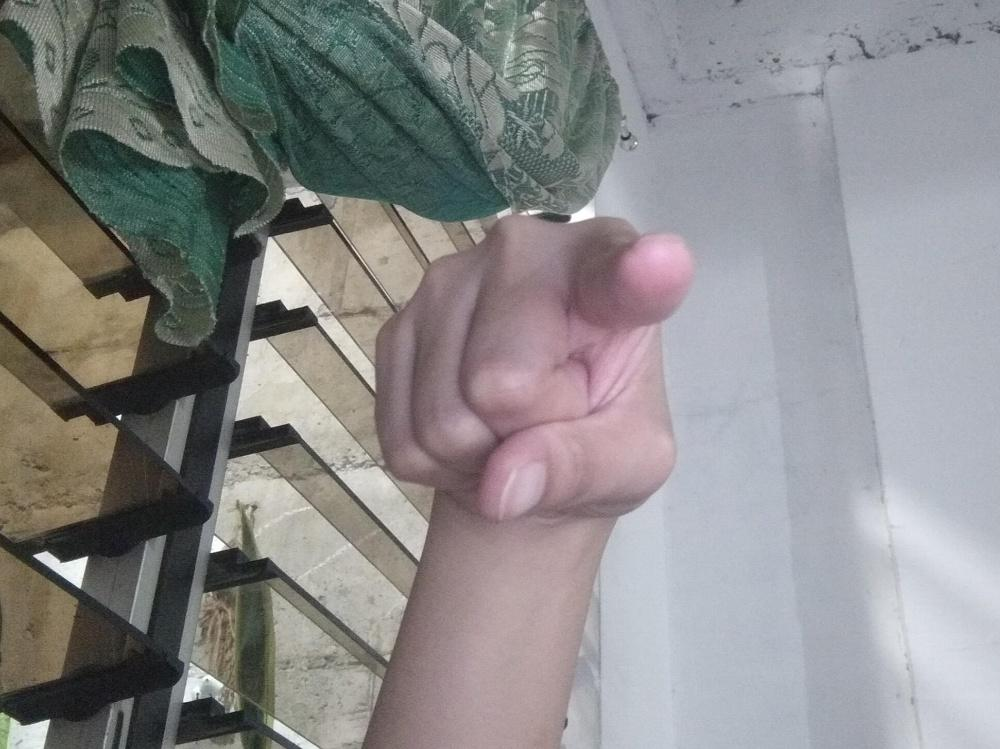z: (372, 210, 699, 527)
